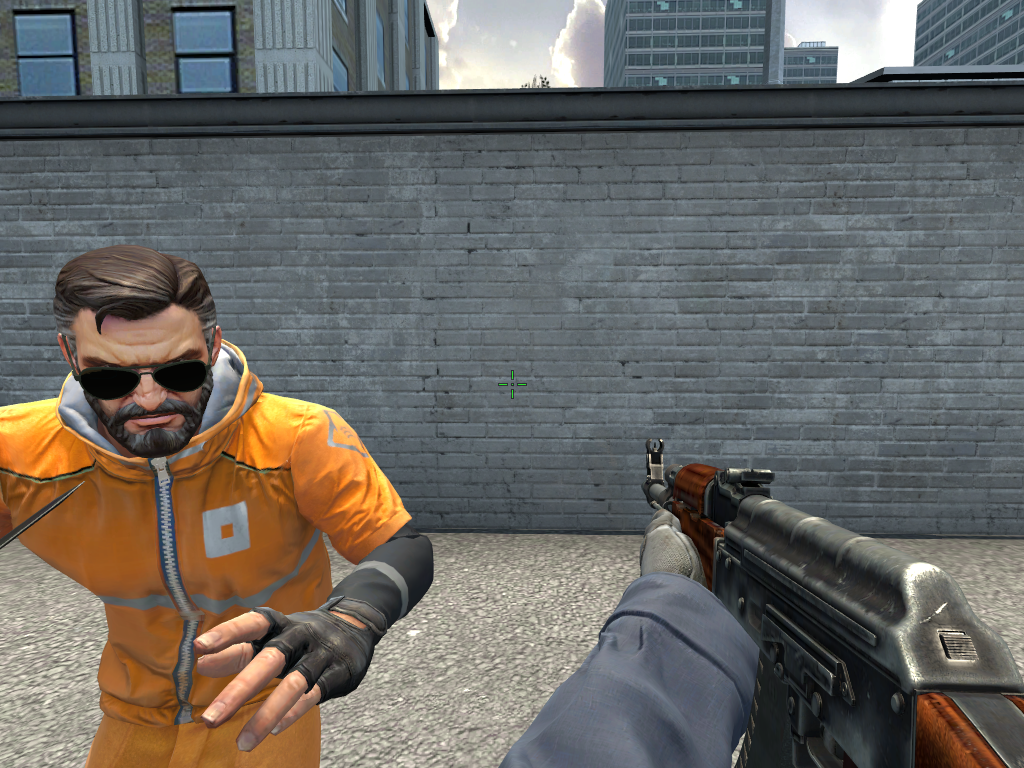tr head: (51, 241, 224, 459)
